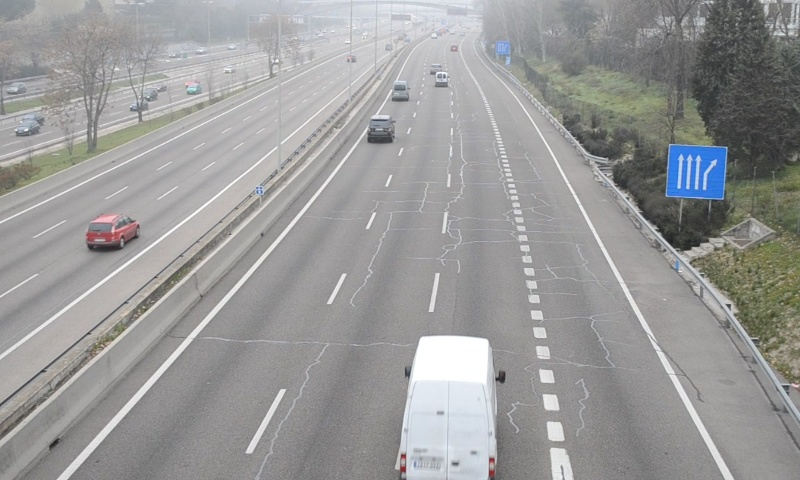car: (367, 115, 394, 142)
van: (398, 336, 498, 480), (391, 80, 408, 101)
